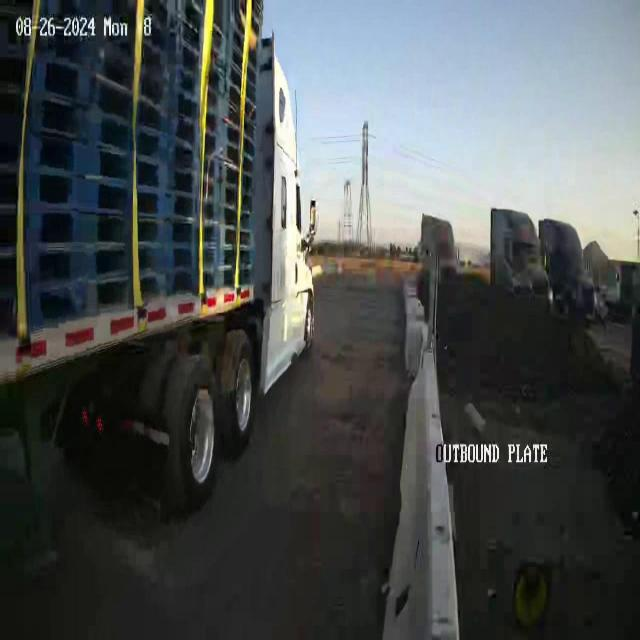TRUCK_IN: (1, 1, 318, 515)
